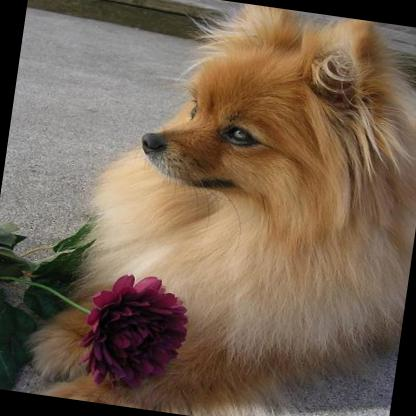Pomeranian: (19, 0, 416, 416)
